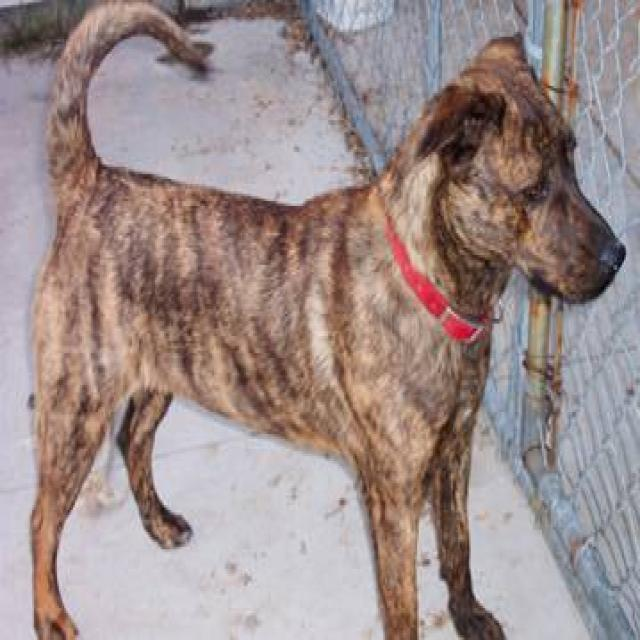dog: (27, 0, 626, 638)
